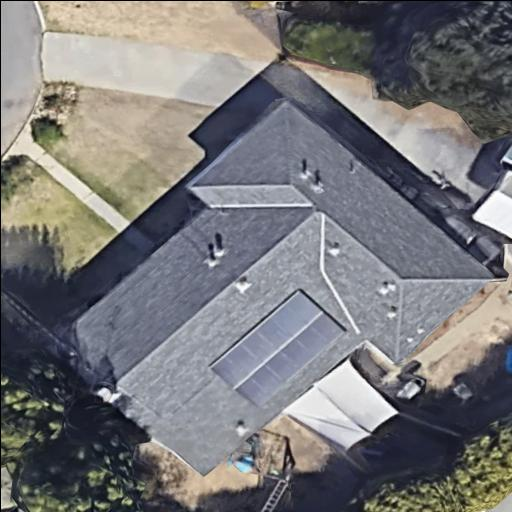Solar-Slope-Roof: (45, 95, 496, 476)
